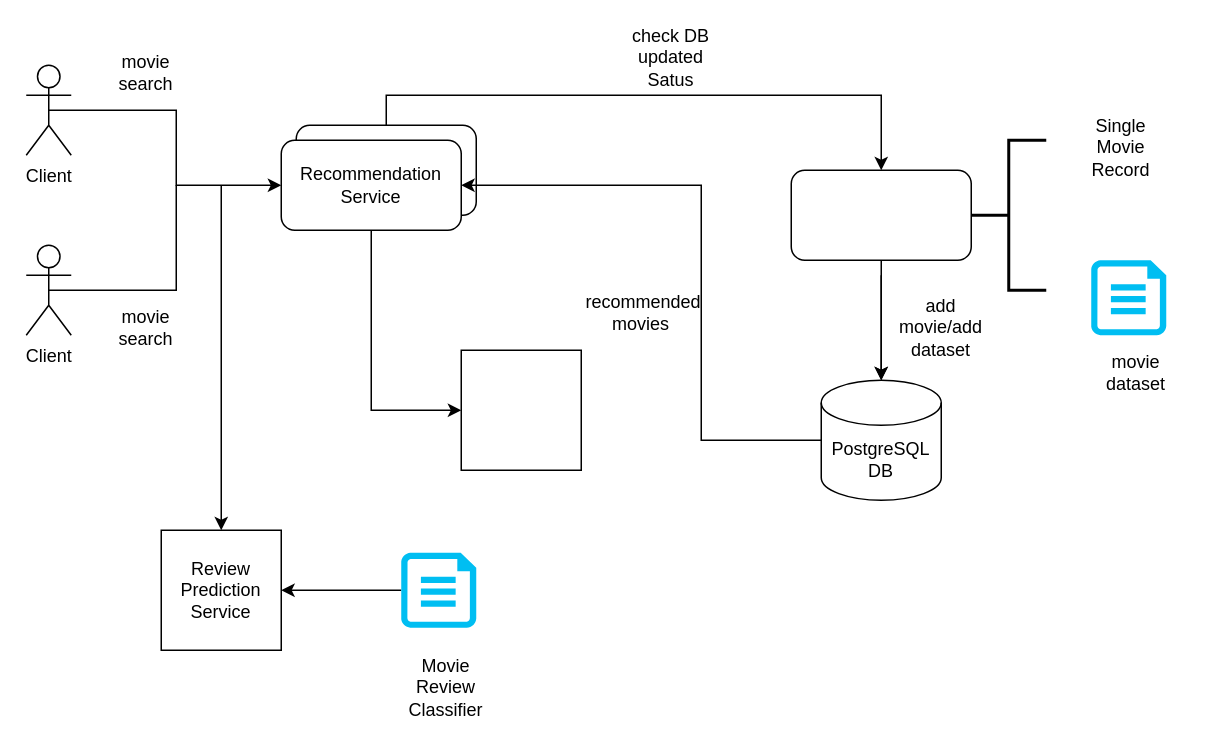
Some shapes in this 1208 by 746 pixel diagram are drawn without their labels. The shapes that lost their labels are listed below. From the top down, each one's centre as x and y in pixels, then its label:
the point at 880,214: Movie Service
the point at 520,409: Cache
